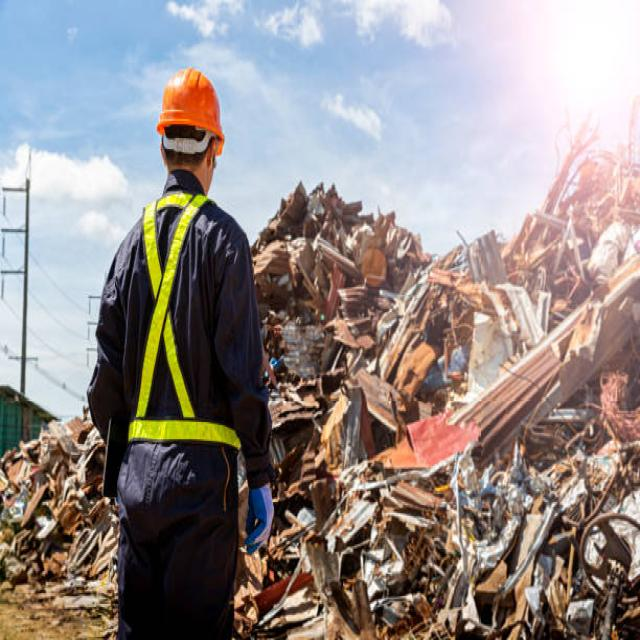metal: (286, 226, 604, 613)
